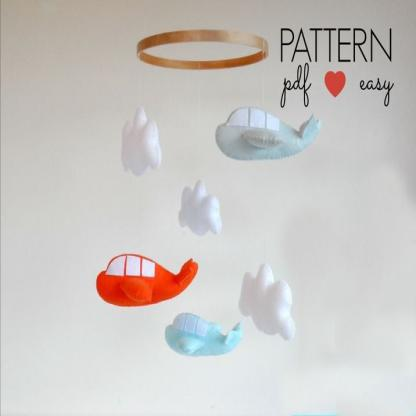CIV_Plane: (209, 94, 320, 178), (92, 250, 205, 312)
